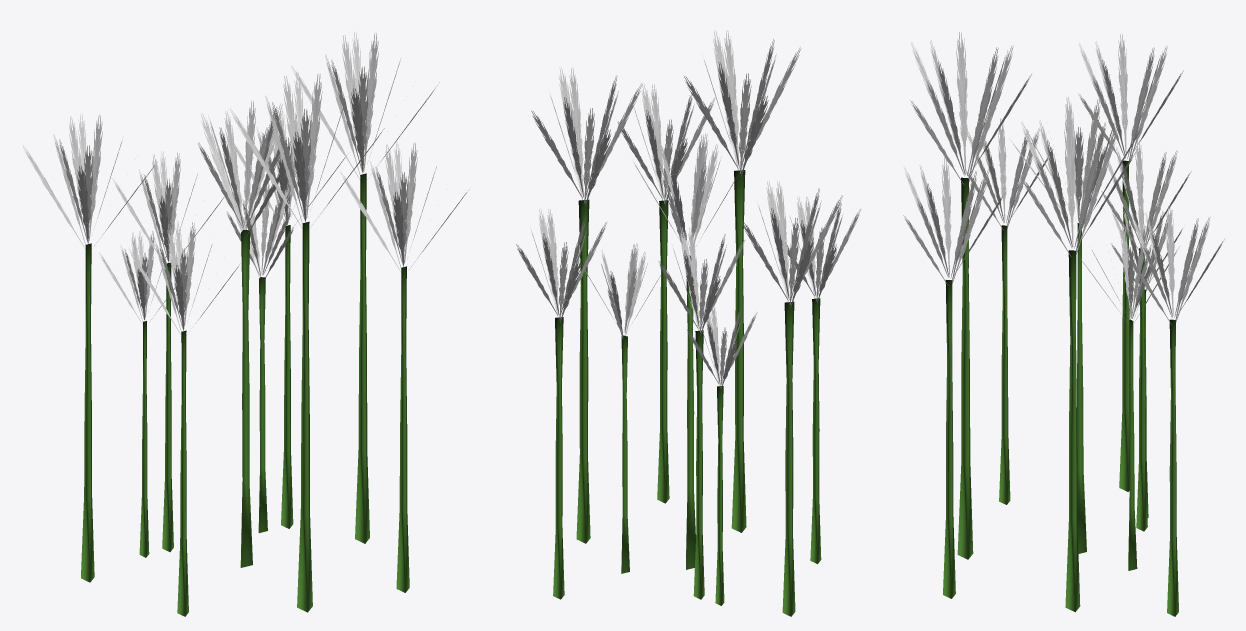
Rendered from SM_GrassTurf_003.fbx.
The picture shows the model from 3 angles, left to right: view 1: azimuth 30°, elevation 25°; view 2: azimuth 150°, elevation 25°; view 3: azimuth 270°, elevation 25°; orthographic projection. The views are drawn at different scales.
Visible parts, largest first — view 1: SM_GrassTurf_003; view 2: SM_GrassTurf_003; view 3: SM_GrassTurf_003.
Part boxes in pixels (box(x1,y1,x2,y2)): SM_GrassTurf_003: box(23, 32, 469, 616); SM_GrassTurf_003: box(516, 30, 861, 616); SM_GrassTurf_003: box(903, 32, 1224, 616).
Size of the model in its own units: 98.42 by 144 by 81.52.
